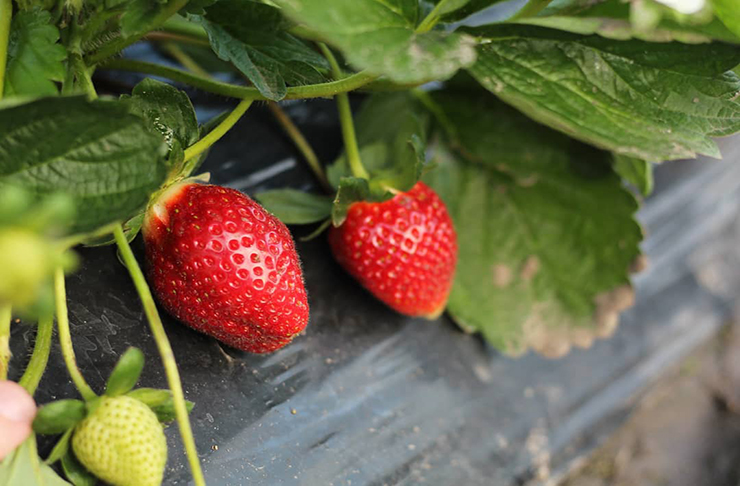ripe: (139, 173, 316, 354), (332, 171, 461, 324)
unripe: (71, 391, 171, 483)
